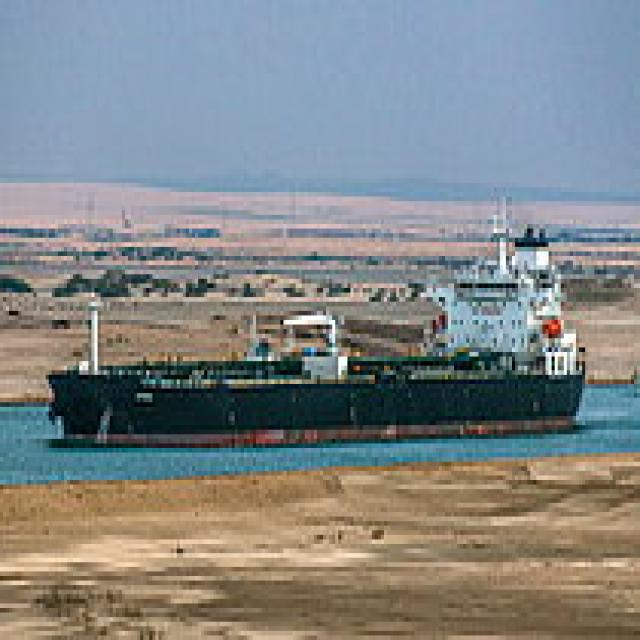Tanker: (40, 192, 591, 448)
